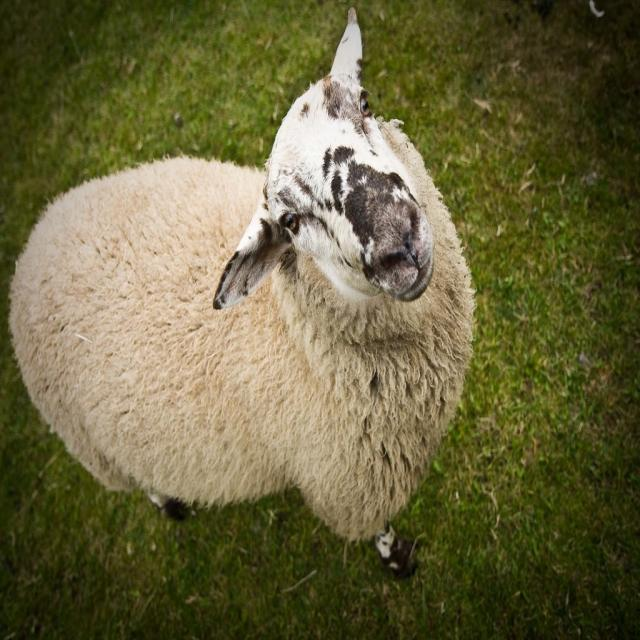Sheep: (7, 9, 475, 572)
